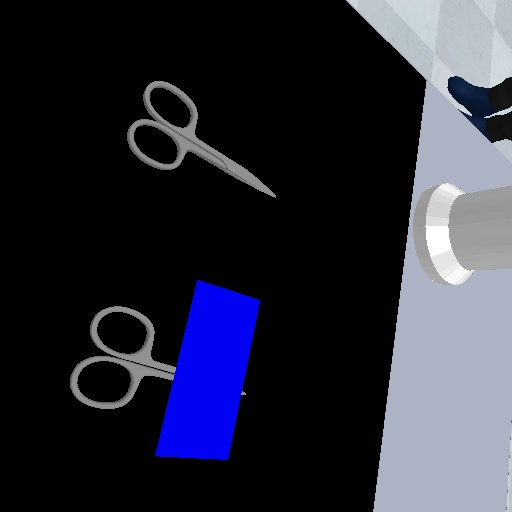tijera: (120, 75, 280, 202), (64, 302, 180, 414)
